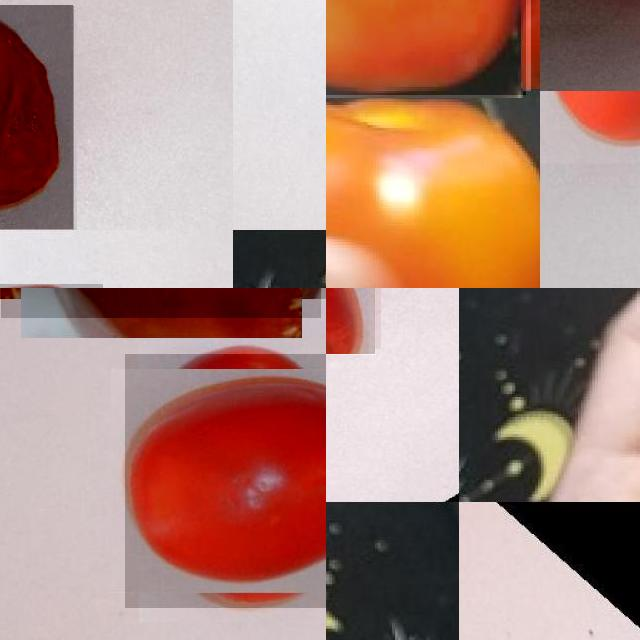Fresh Tomato: (125, 354, 326, 607), (326, 91, 540, 288), (326, 0, 526, 94), (540, 91, 640, 163)
Rotten Tomato: (0, 5, 73, 230)
